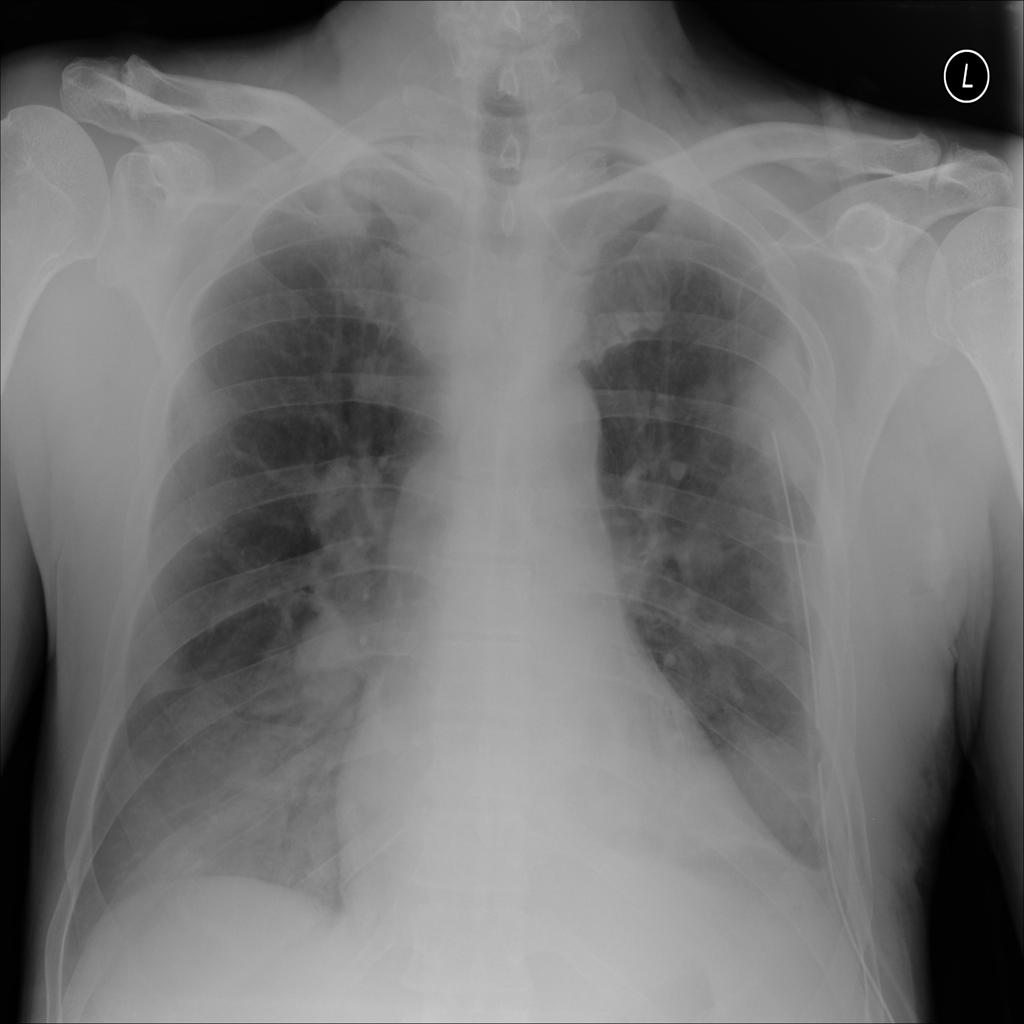nodule: (684, 721, 835, 867), (282, 597, 366, 705), (335, 336, 420, 414), (667, 513, 736, 592)
